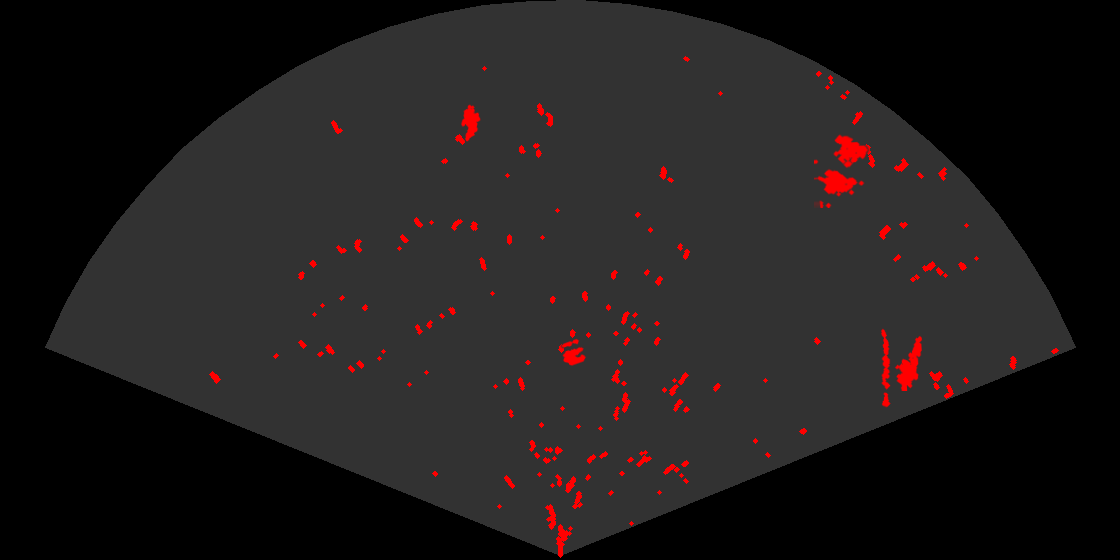AUV: (460, 103, 482, 143)
ball: (560, 337, 588, 367)
cage: (814, 133, 870, 208)
chain: (880, 328, 892, 408)
frogman: (893, 335, 924, 391)
